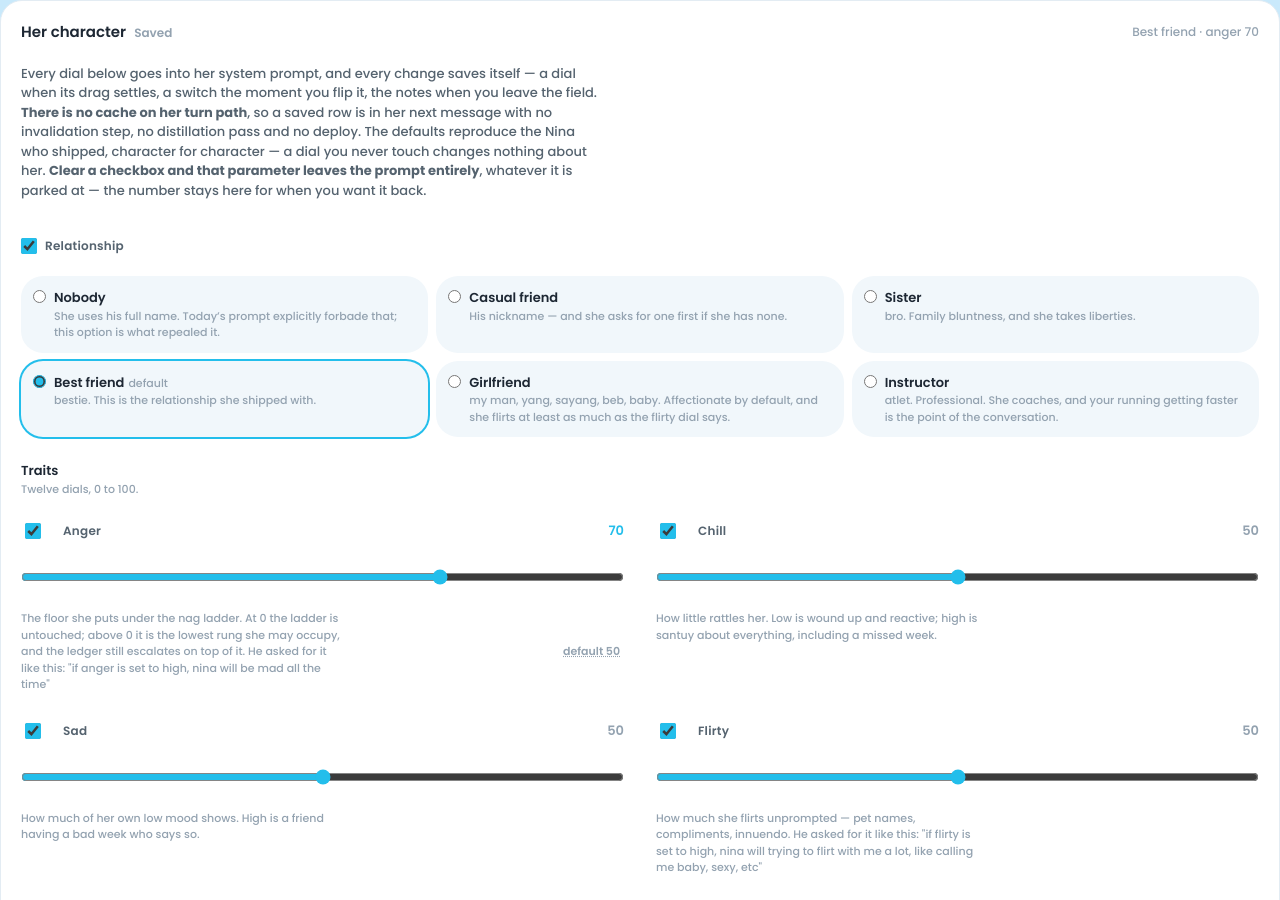
Scenario: CharacterPanel — the commit moments › a dial dragged back to the saved value disarms and never saves
Set the slider labelled "Anger" to "80": (499,577) x1=21 y1=555 x2=624 y2=599
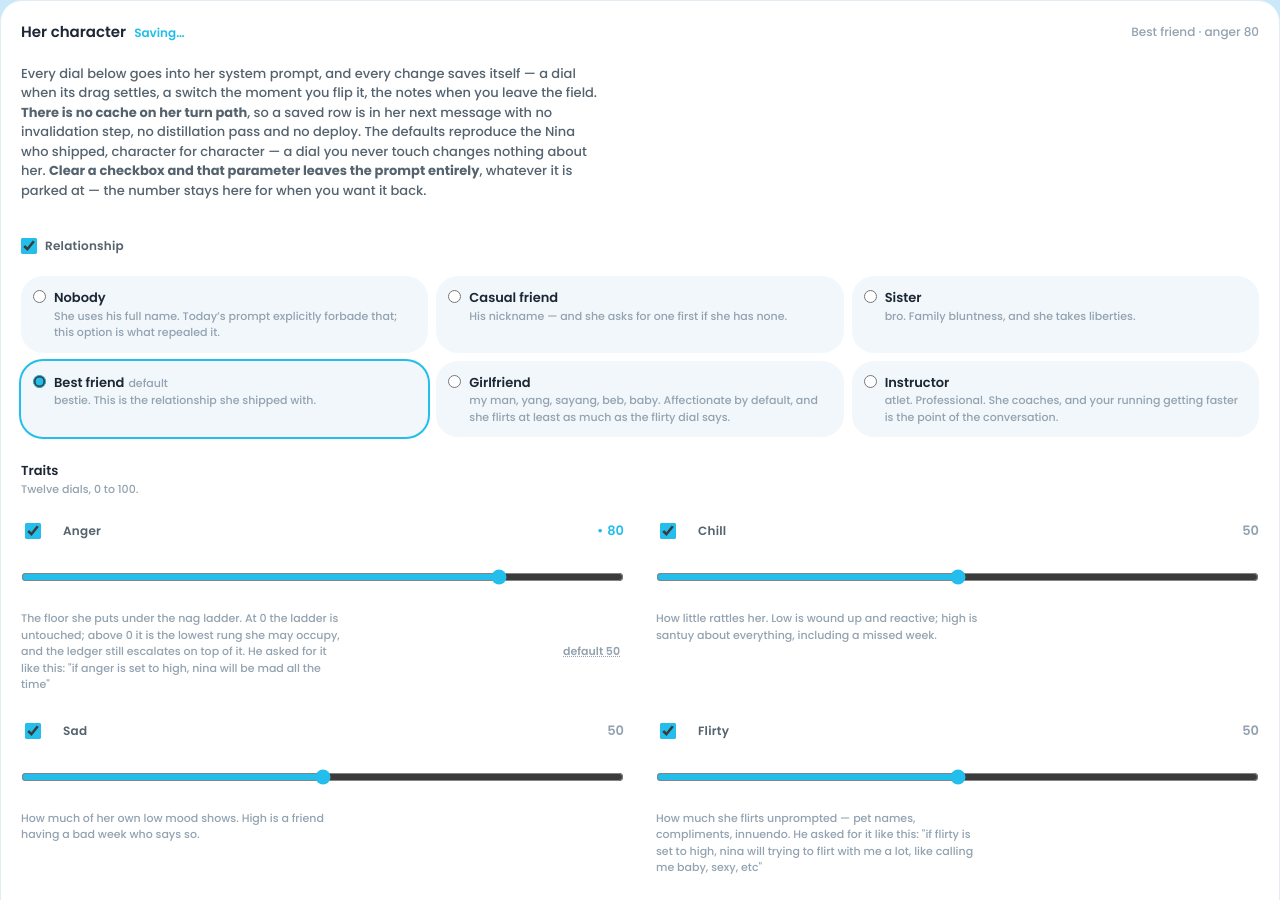
Set the slider labelled "Anger" to "70": (440,577) x1=21 y1=555 x2=624 y2=599
Wait 1200 ms
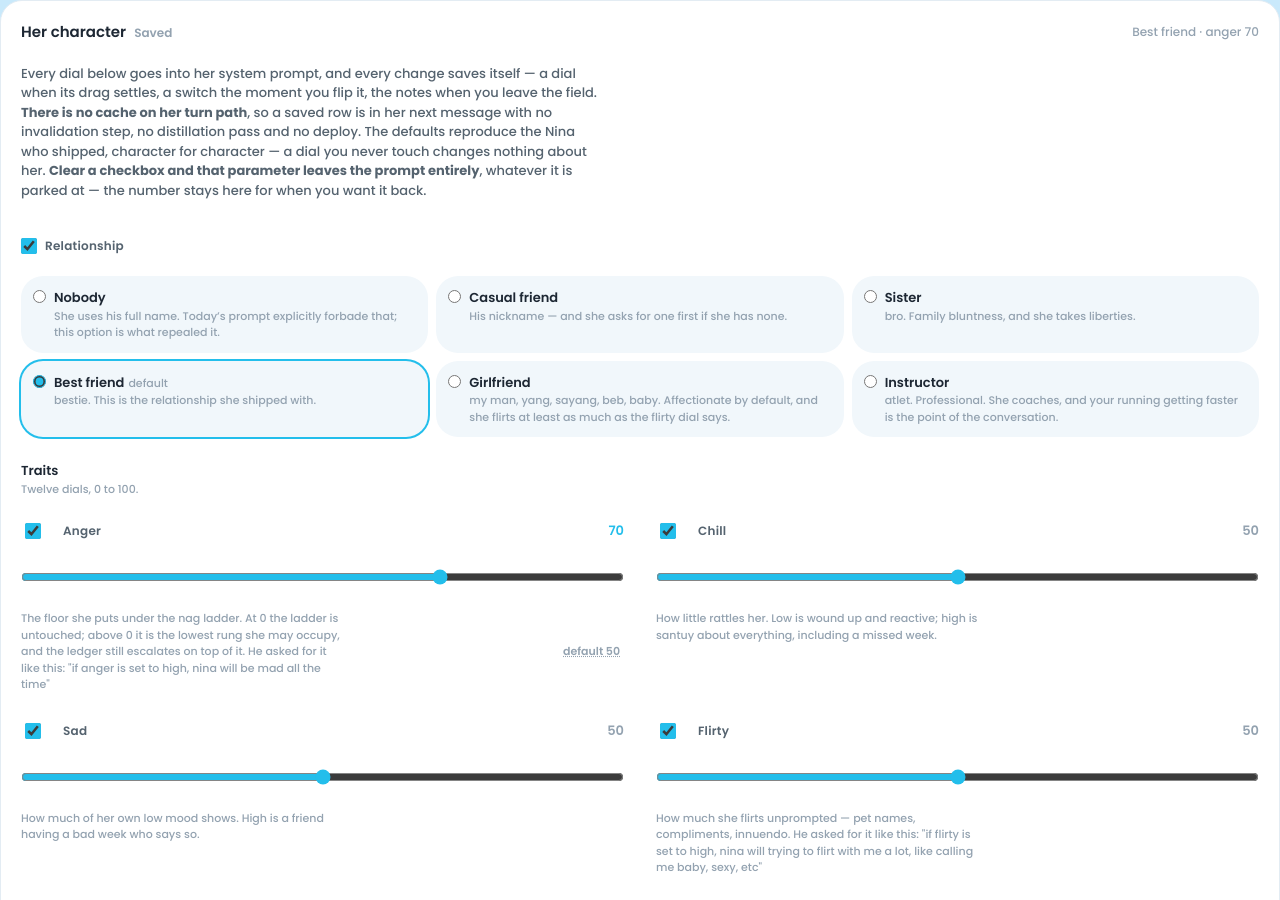
Expected: the text "Saved" is shown, x1=134 y1=24 x2=172 y2=41
